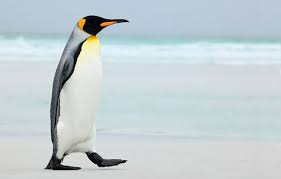Walking: (40, 8, 157, 175)
